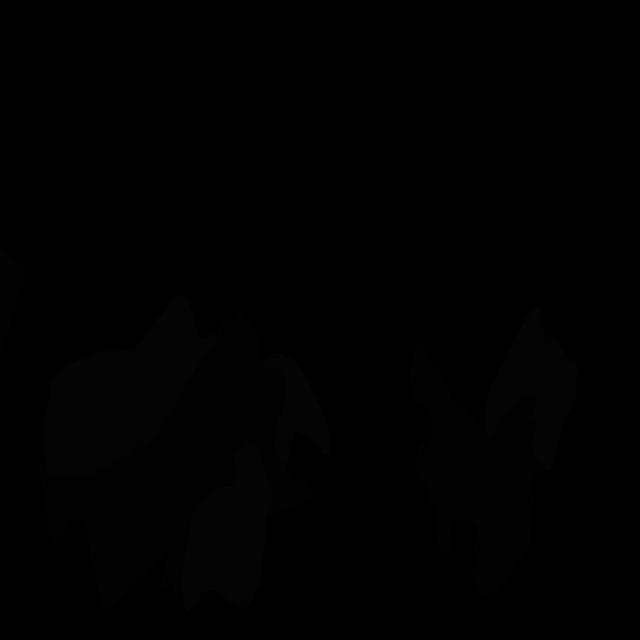cardboard: (37, 313, 312, 611), (408, 342, 543, 599), (0, 245, 26, 358)
soft_plastic: (43, 294, 216, 480), (484, 305, 578, 471), (182, 444, 274, 611), (262, 353, 332, 465)
